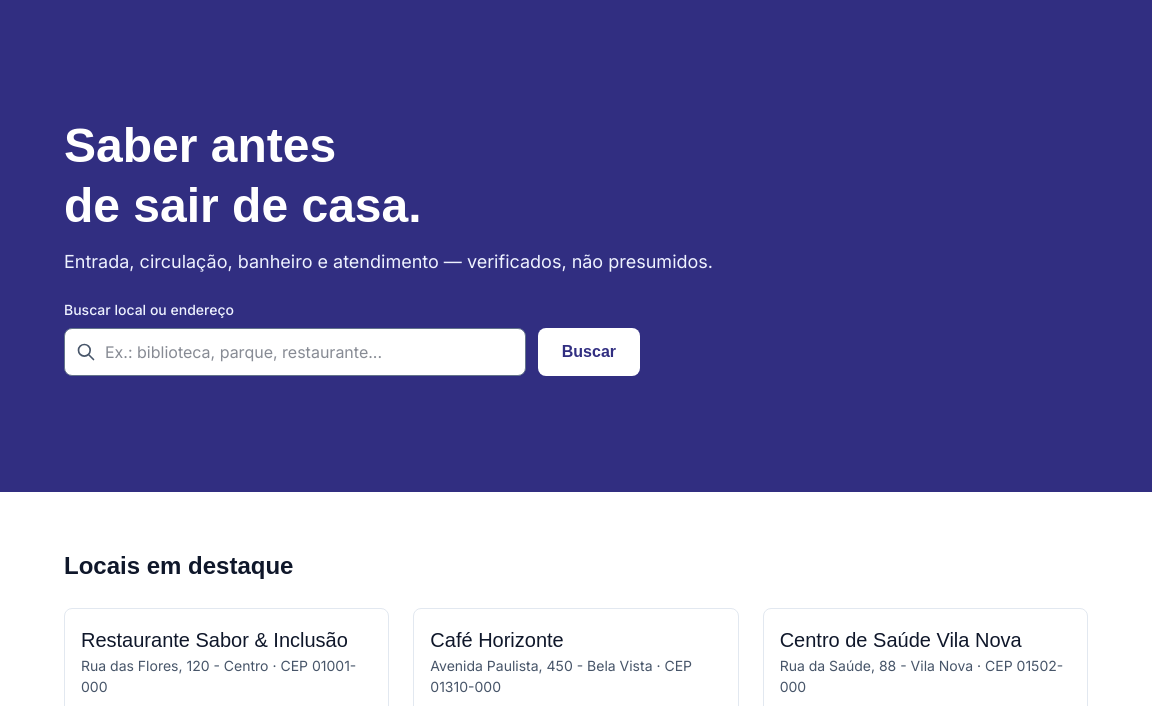
Test case: Página inicial › restaura os destaques e limpa o campo com "Limpar campo de busca"
Type "Biblioteca Comunitária Leitura Livre" into the search field labelled "Buscar local ou endereço".
click(295, 352); type("Biblioteca Comunitária Leitura Livre")  # box [64,328,526,376]
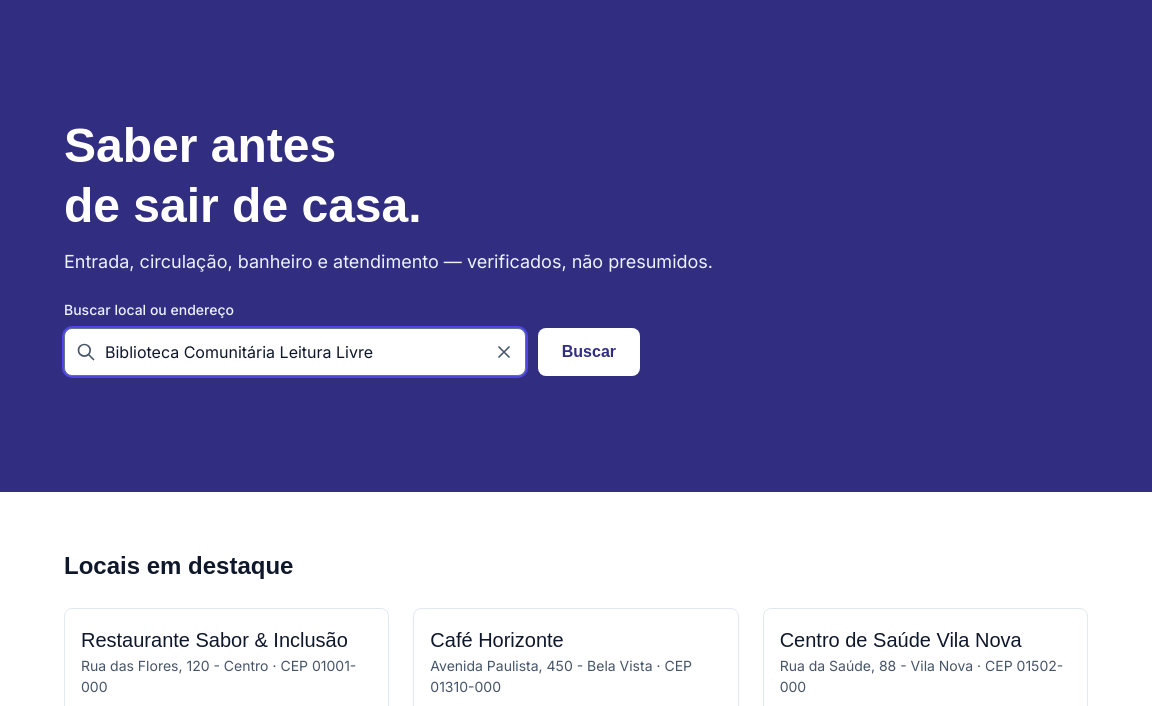
Click the button "Buscar".
click(589, 352)  # box [538,328,640,376]
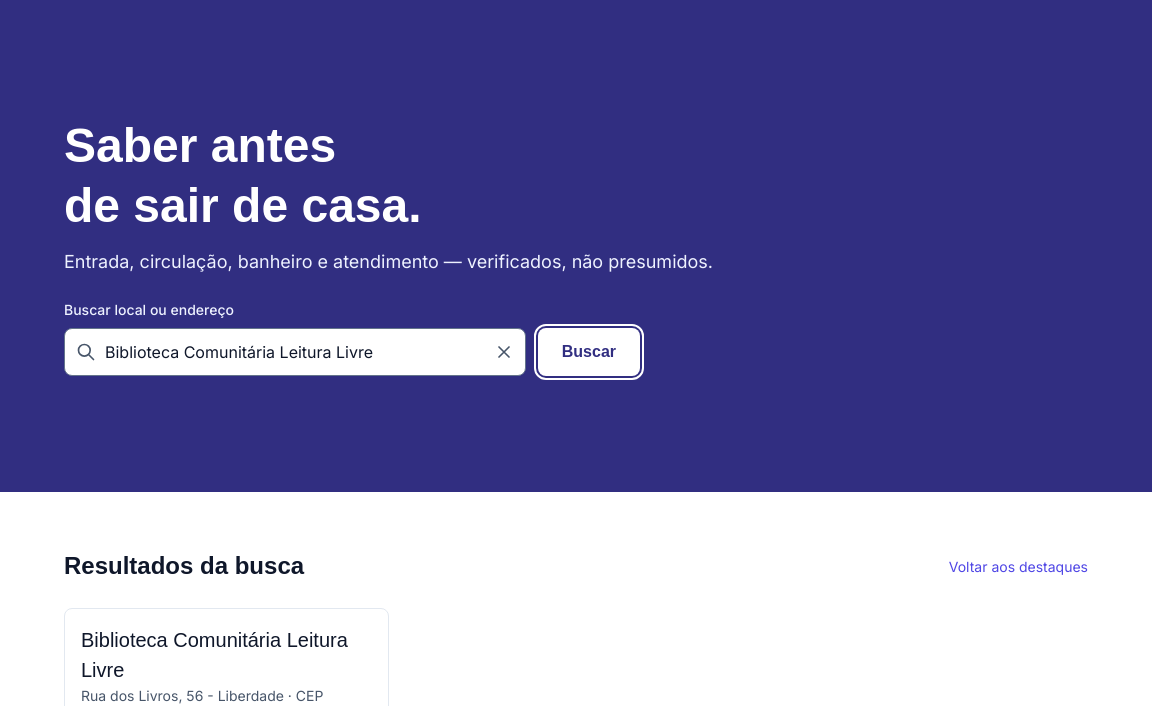
Click the button named "Limpar campo de busca".
click(510, 352)  # box [494,328,526,376]
(page scrolled)
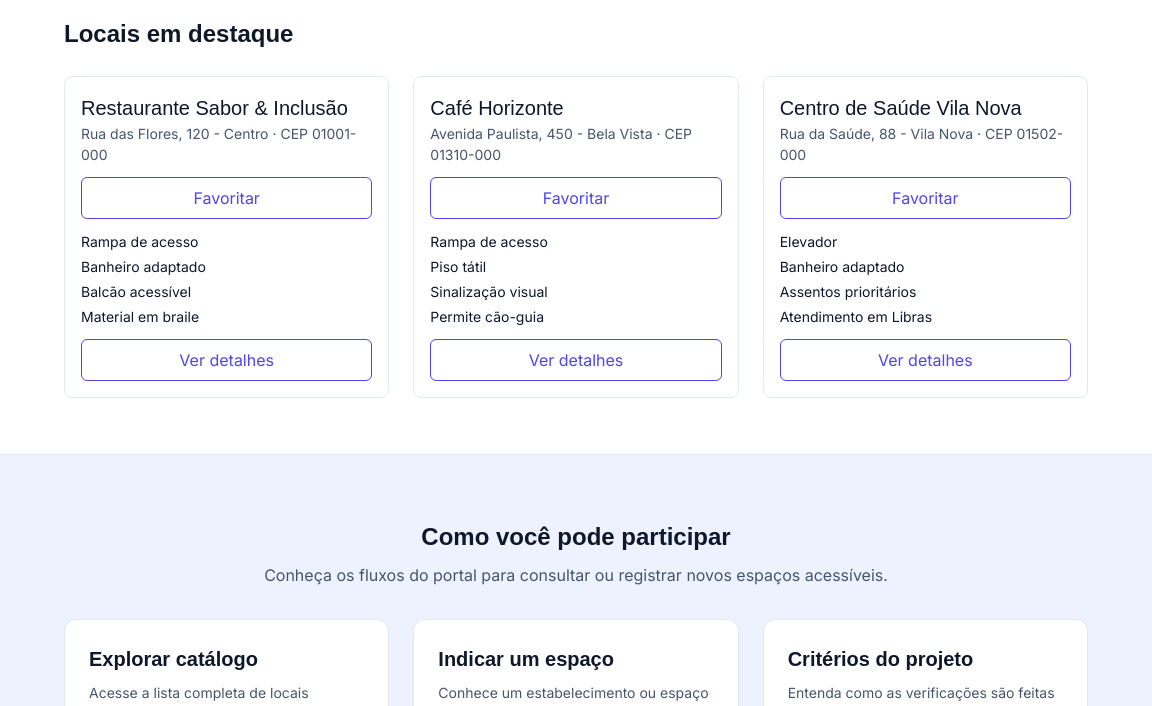
Expected: the heading "Locais em destaque" is shown, [64,16,293,52]
Expected: the heading "Restaurante Sabor & Inclusão" is shown, [81,93,372,123]
Expected: the heading "Café Horizonte" is shown, [430,97,564,119]
